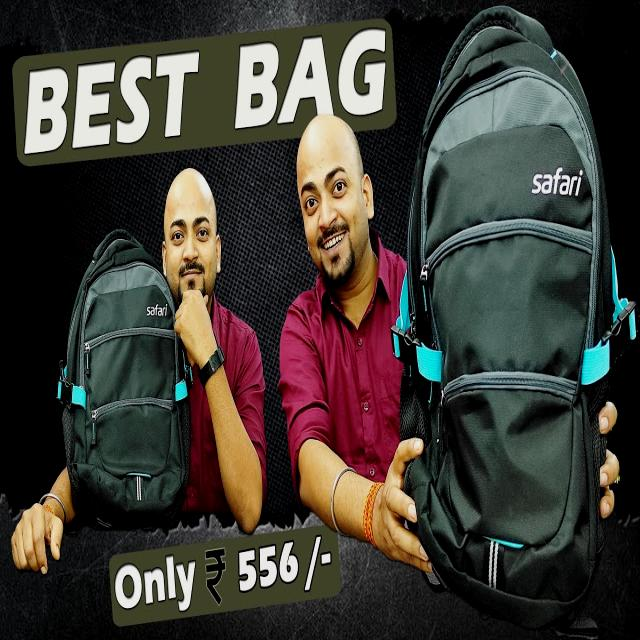backpack: (392, 6, 638, 632), (58, 229, 194, 533)
